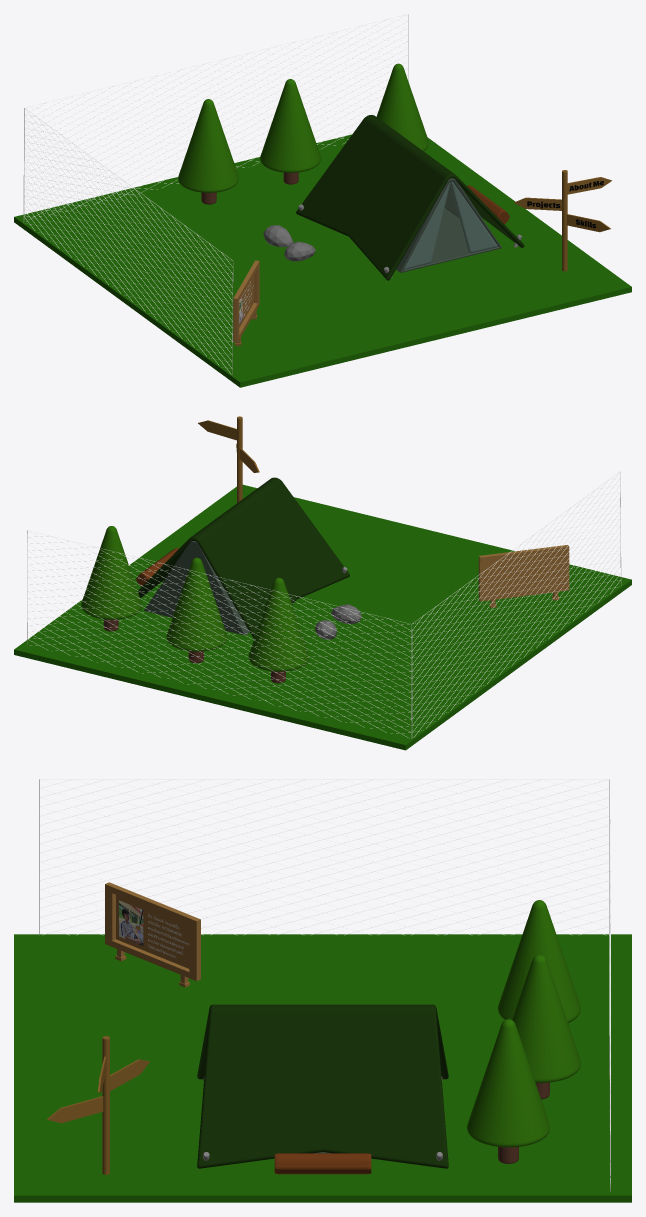
Rendered from 3Dportfolio5.glb.
3 renders of one model, top to bottom at view 1: azimuth 30°, elevation 25°; view 2: azimuth 150°, elevation 25°; view 3: azimuth 270°, elevation 25°, orthographic. The views are drawn at different scales.
Visible parts, largest first — view 1: Plane, Cube.001, Plane.002, Plane.001, Cylinder.008, Cylinder.006, Cube, Plane.006, Cylinder.004, Cube.003, Cylinder; view 2: Plane, Cube.001, Plane.002, Plane.001, Cube.003, Cylinder.008, Cylinder.006, Cylinder.004, Cube, Cylinder, Icosphere; view 3: Plane, Cube.001, Plane.001, Cylinder.004, Cube.003, Cylinder.006, Cylinder.008, Cylinder.002, Cylinder, portfolio_photo, Plane.005, Plane.002 (+1 smaller).
Boxes of the visible parts, box(x1,y1,x2,y2) form: Plane: box(14, 134, 631, 387); Cube.001: box(296, 115, 524, 280); Plane.002: box(23, 14, 408, 221); Plane.001: box(23, 108, 233, 374); Cylinder.008: box(178, 99, 238, 192); Cylinder.006: box(260, 79, 320, 172); Cube: box(396, 178, 501, 272); Plane.006: box(404, 182, 497, 269); Cylinder.004: box(376, 63, 428, 151); Cube.003: box(233, 260, 259, 346); Cylinder: box(562, 170, 567, 271); Plane: box(14, 484, 631, 750); Cube.001: box(138, 477, 349, 638); Plane.002: box(27, 530, 411, 738); Plane.001: box(412, 471, 621, 738); Cube.003: box(478, 545, 569, 607); Cylinder.008: box(248, 577, 309, 671); Cylinder.006: box(166, 557, 227, 651); Cylinder.004: box(81, 526, 141, 619); Cube: box(144, 541, 249, 635); Cylinder: box(237, 416, 242, 502); Icosphere: box(331, 604, 361, 624); Plane: box(14, 934, 631, 1202); Cube.001: box(197, 1004, 448, 1168); Plane.001: box(39, 779, 609, 935); Cylinder.004: box(467, 1019, 549, 1147); Cube.003: box(105, 882, 200, 987); Cylinder.006: box(512, 954, 580, 1082); Cylinder.008: box(498, 900, 580, 1022); Cylinder.002: box(274, 1153, 371, 1174); Cylinder: box(102, 1036, 109, 1174); portfolio_photo: box(119, 900, 143, 945); Plane.005: box(47, 1096, 103, 1123); Plane.002: box(609, 779, 610, 1191).
Size of the model in its own units: 10.28 by 2.92 by 10.
Materials: 14 (1 with a texture image).
